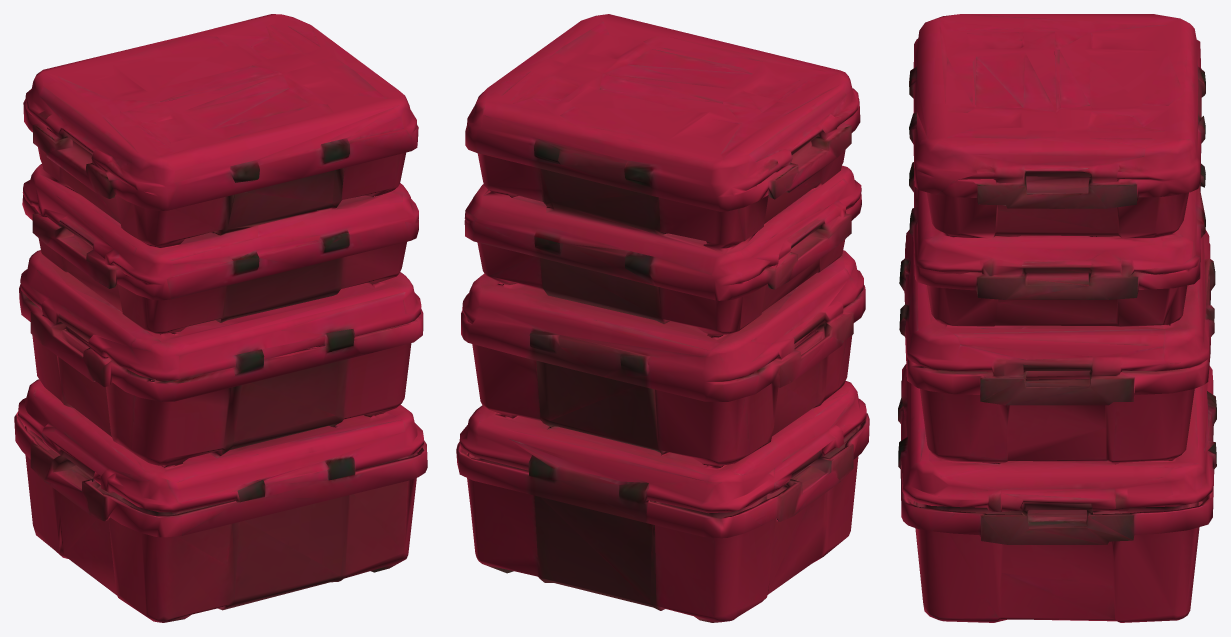
Rendered from docaHotBoxes.glb.
3 views of the same model, side by side, from view 1: azimuth 30°, elevation 25°; view 2: azimuth 150°, elevation 25°; view 3: azimuth 270°, elevation 25° (orthographic). The views are drawn at different scales.
Size of the model in its own units: 1.31 by 1.9 by 1.13.
1 material, 1 textured.
